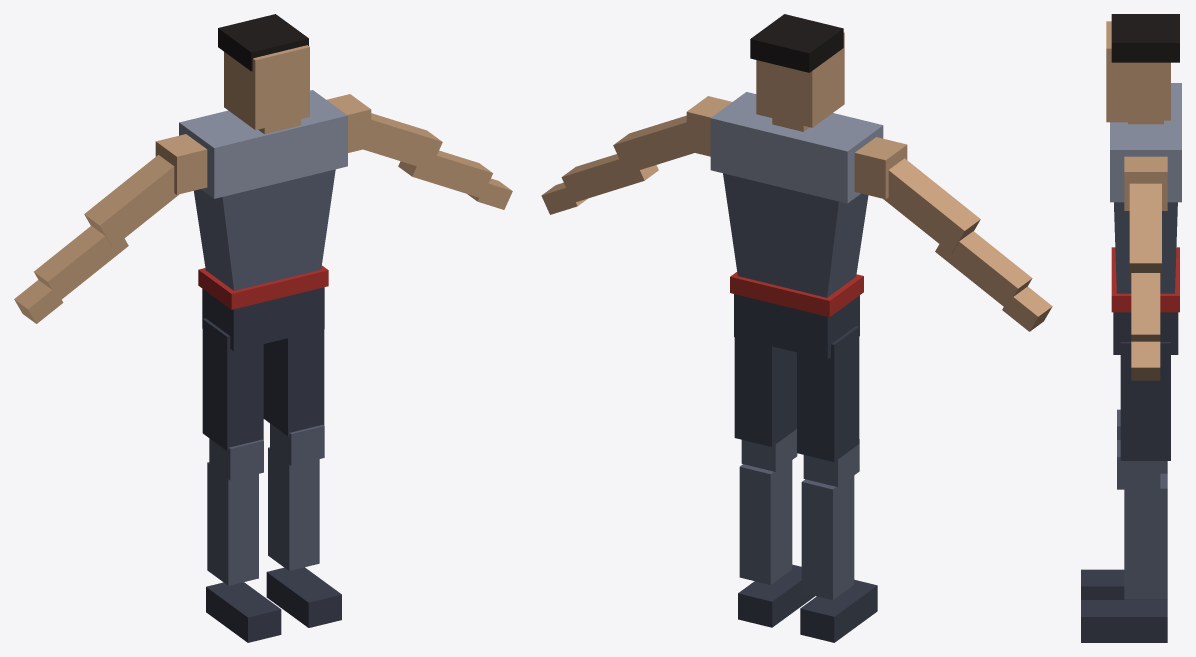
File: base_fighter.obj
The picture shows the model from 3 angles, left to right: view 1: azimuth 30°, elevation 25°; view 2: azimuth 150°, elevation 25°; view 3: azimuth 270°, elevation 25°; orthographic projection. The views are drawn at different scales.
Parts seen in each view (by area): view 1: torso, chest, upper_leg_r, head, upper_leg_l, lower_leg_r, lower_leg_l, pelvis, upper_arm_r, foot_r, foot_l, lower_arm_r (+10 smaller); view 2: torso, chest, upper_leg_r, lower_leg_r, lower_leg_l, upper_leg_l, pelvis, head, upper_arm_r, hair, lower_arm_r, foot_r (+10 smaller); view 3: lower_leg_l, upper_leg_l, chest, head, foot_l, hair, upper_arm_l, torso, lower_arm_l, shoulder_l, foot_r, knee_l (+3 smaller).
Boxes of the visible parts, x1=… form: torso: x1=194, y1=169, x2=335, y2=290; chest: x1=179, y1=90, x2=347, y2=198; upper_leg_r: x1=202, y1=318, x2=263, y2=451; head: x1=224, y1=45, x2=309, y2=130; upper_leg_l: x1=263, y1=329, x2=324, y2=436; lower_leg_r: x1=207, y1=462, x2=258, y2=585; lower_leg_l: x1=268, y1=447, x2=319, y2=570; pelvis: x1=202, y1=287, x2=324, y2=351; upper_arm_r: x1=84, y1=155, x2=178, y2=247; foot_r: x1=206, y1=582, x2=281, y2=642; foot_l: x1=266, y1=567, x2=341, y2=627; lower_arm_r: x1=34, y1=226, x2=128, y2=301; torso: x1=723, y1=173, x2=868, y2=297; chest: x1=710, y1=92, x2=883, y2=203; upper_leg_r: x1=797, y1=326, x2=859, y2=461; lower_leg_r: x1=801, y1=475, x2=854, y2=600; lower_leg_l: x1=739, y1=460, x2=792, y2=584; upper_leg_l: x1=734, y1=337, x2=796, y2=446; pelvis: x1=734, y1=294, x2=859, y2=359; head: x1=756, y1=32, x2=844, y2=127; upper_arm_r: x1=883, y1=158, x2=980, y2=253; hair: x1=750, y1=14, x2=843, y2=72; lower_arm_r: x1=935, y1=231, x2=1032, y2=308; foot_r: x1=800, y1=579, x2=877, y2=642; lower_leg_l: x1=1124, y1=473, x2=1167, y2=599; upper_leg_l: x1=1120, y1=342, x2=1170, y2=460; chest: x1=1110, y1=83, x2=1181, y2=202; head: x1=1106, y1=21, x2=1170, y2=120; foot_l: x1=1081, y1=600, x2=1167, y2=642; hair: x1=1111, y1=14, x2=1179, y2=62; upper_arm_l: x1=1129, y1=183, x2=1161, y2=282; torso: x1=1114, y1=202, x2=1177, y2=293; lower_arm_l: x1=1131, y1=273, x2=1160, y2=341; shoulder_l: x1=1124, y1=156, x2=1167, y2=210; foot_r: x1=1081, y1=569, x2=1167, y2=599; knee_l: x1=1117, y1=440, x2=1160, y2=489.
Size of the model in its own units: 1.6 by 1.81 by 0.28.
